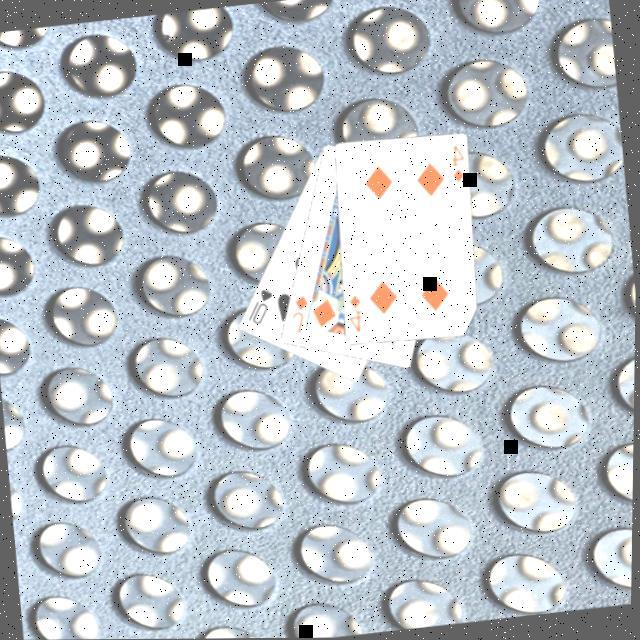10S: (240, 284, 277, 328)
4D: (342, 290, 365, 336), (444, 142, 467, 186)
JD: (285, 290, 312, 336)
